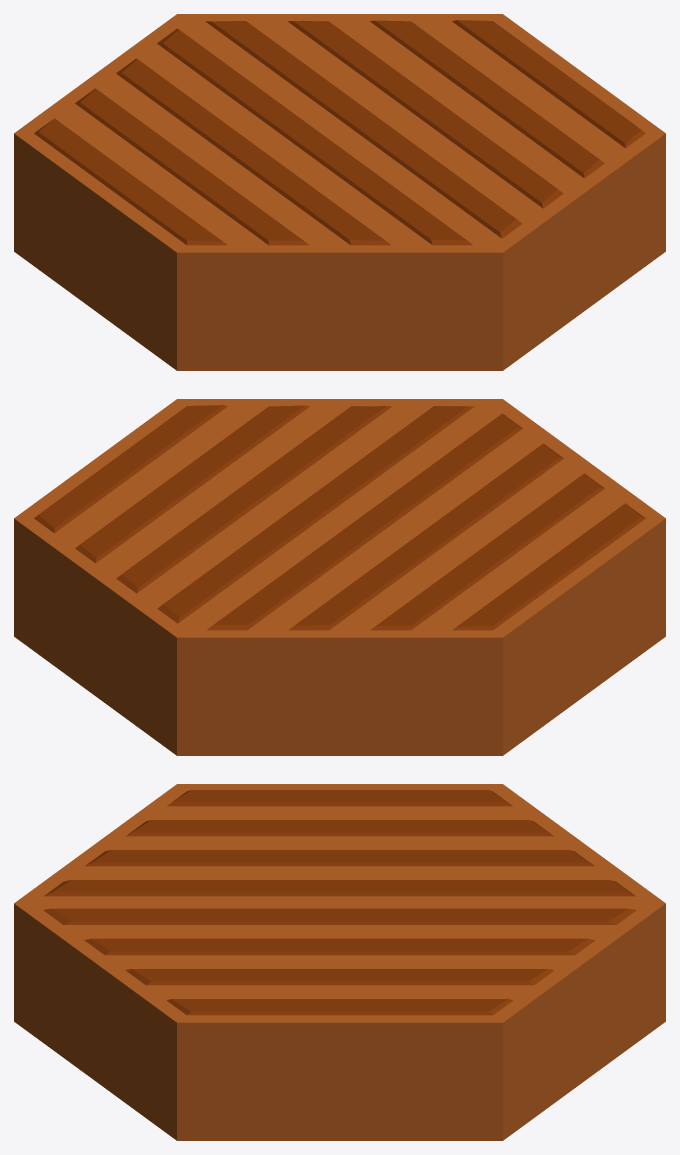
Rendered from TileHex_08.fbx.
3 renders of one model, top to bottom at view 1: azimuth 30°, elevation 25°; view 2: azimuth 150°, elevation 25°; view 3: azimuth 270°, elevation 25°, orthographic.
Parts seen in each view (by area): view 1: TileHex_08; view 2: TileHex_08; view 3: TileHex_08.
Boxes of the visible parts, x1,y1,x2,y2 form: TileHex_08: [14, 14, 665, 370]; TileHex_08: [14, 399, 665, 755]; TileHex_08: [14, 784, 665, 1140].
Bounding box in the file's own units: 433 × 102 × 500.
